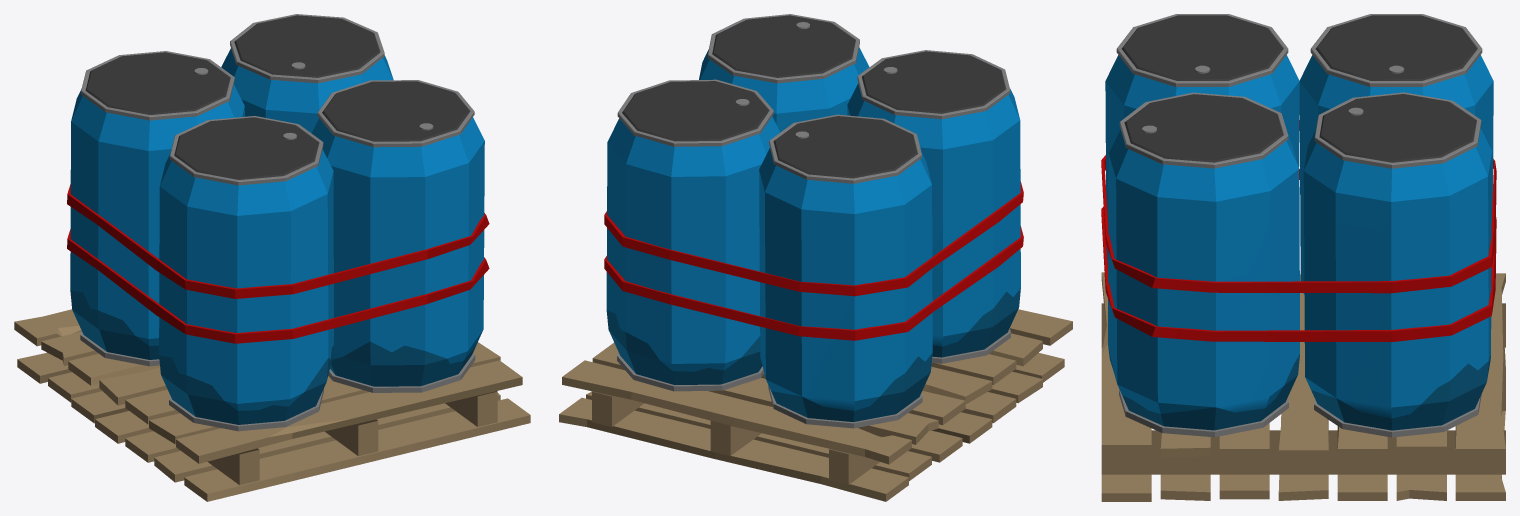
Rendered from model_water_barrel_set.fbx.
3 views of the same model, side by side, from view 1: azimuth 30°, elevation 25°; view 2: azimuth 150°, elevation 25°; view 3: azimuth 270°, elevation 25° (orthographic). The views are drawn at different scales.
Visible parts, largest first — view 1: model_water_barrel_set; view 2: model_water_barrel_set; view 3: model_water_barrel_set.
Boxes of the visible parts, x1,y1,x2,y2 form: model_water_barrel_set: [14, 14, 530, 501]; model_water_barrel_set: [559, 14, 1072, 501]; model_water_barrel_set: [1101, 14, 1505, 501].
Bounding box in the file's own units: 186 × 161 × 179.
Materials: 1 (1 with a texture image).
